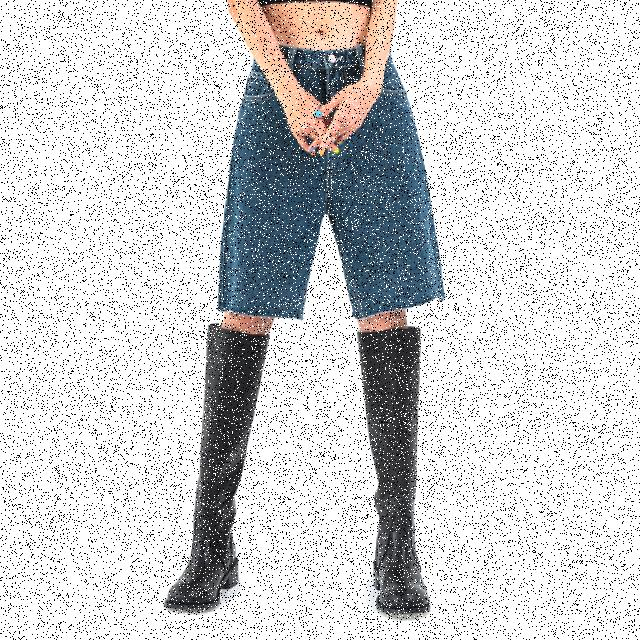Blouse_deep: (200, 44, 450, 331)
